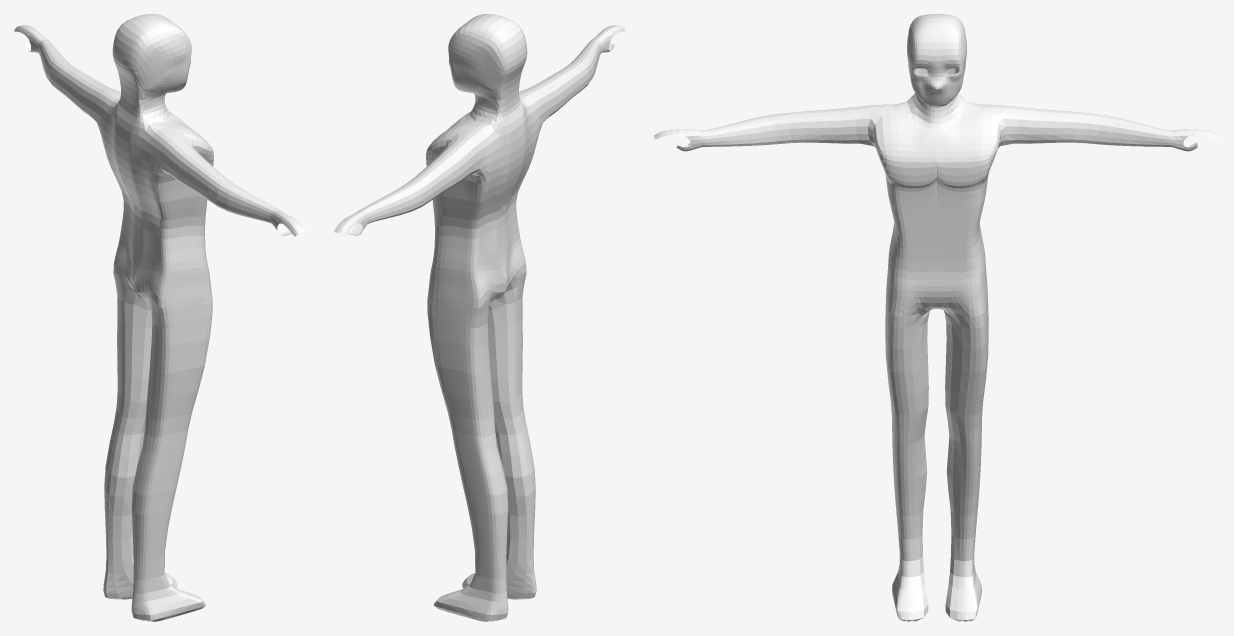
Rendered from player.obj.
The picture shows the model from 3 angles, left to right: view 1: azimuth 30°, elevation 25°; view 2: azimuth 150°, elevation 25°; view 3: azimuth 270°, elevation 25°; orthographic projection.
Parts seen in each view (by area): view 1: 平面; view 2: 平面; view 3: 平面.
Part boxes in pixels (x1=…): 平面: x1=14, y1=14, x2=305, y2=621; 平面: x1=334, y1=14, x2=625, y2=621; 平面: x1=654, y1=14, x2=1219, y2=621.
Bounding box in the file's own units: 0.274 × 2.06 × 1.8.
Materials: 1 (1 with a texture image).
